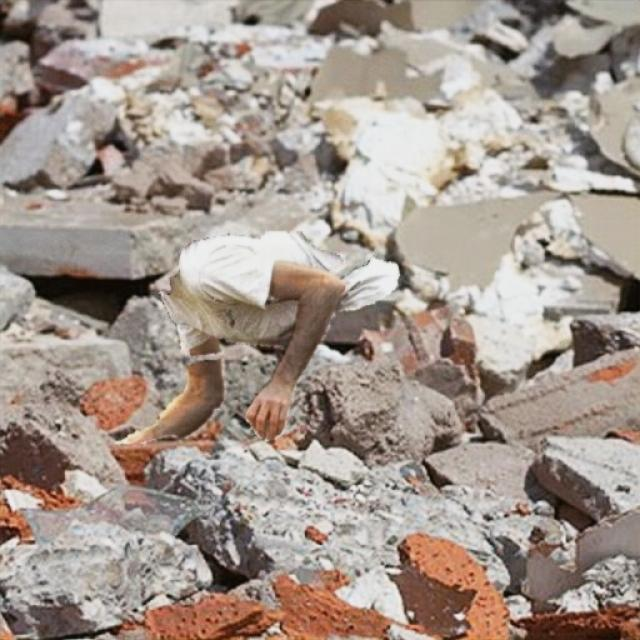Person in Rubble: (115, 232, 399, 442)
